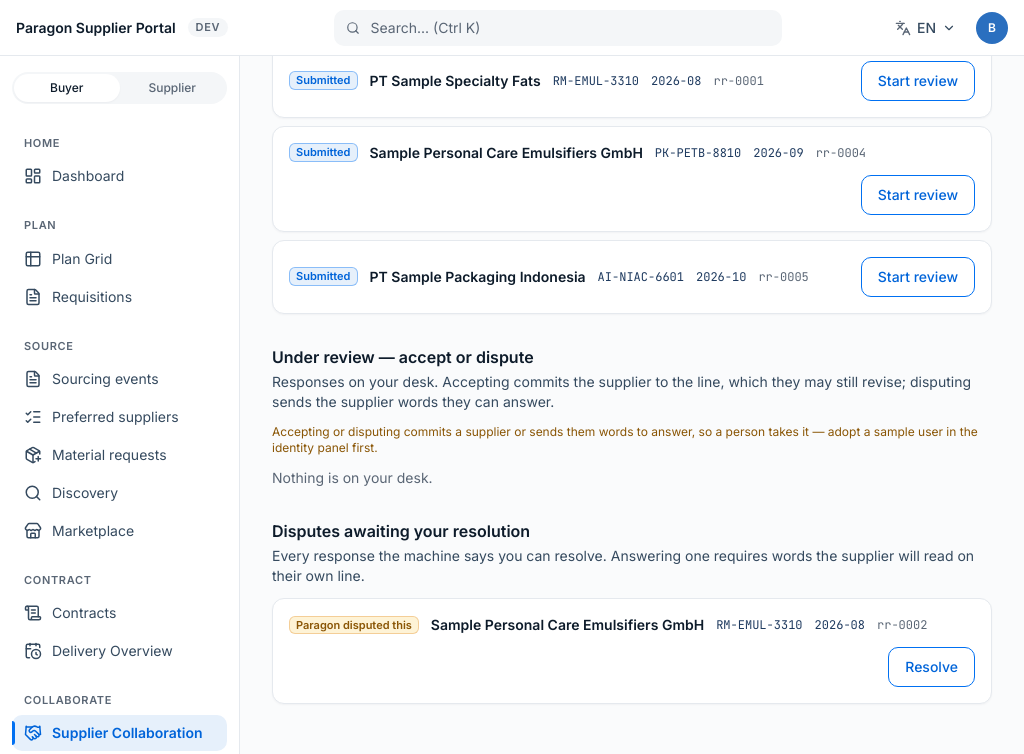
Test: R1b — the capture: a required field with no dismissible way past it › the panel opens on the DISPUTE ITSELF — a planner answers words they can read
(page scrolled)
Expected: the element with test id "sdc-disputes" is shown, 272,520 -> 992,704
Expected: the text "rr-0002" is shown, 877,617 -> 927,633
Click the button with test id "sdc-resolve-cta" at x=932, y=667, box 888,647 -> 975,687
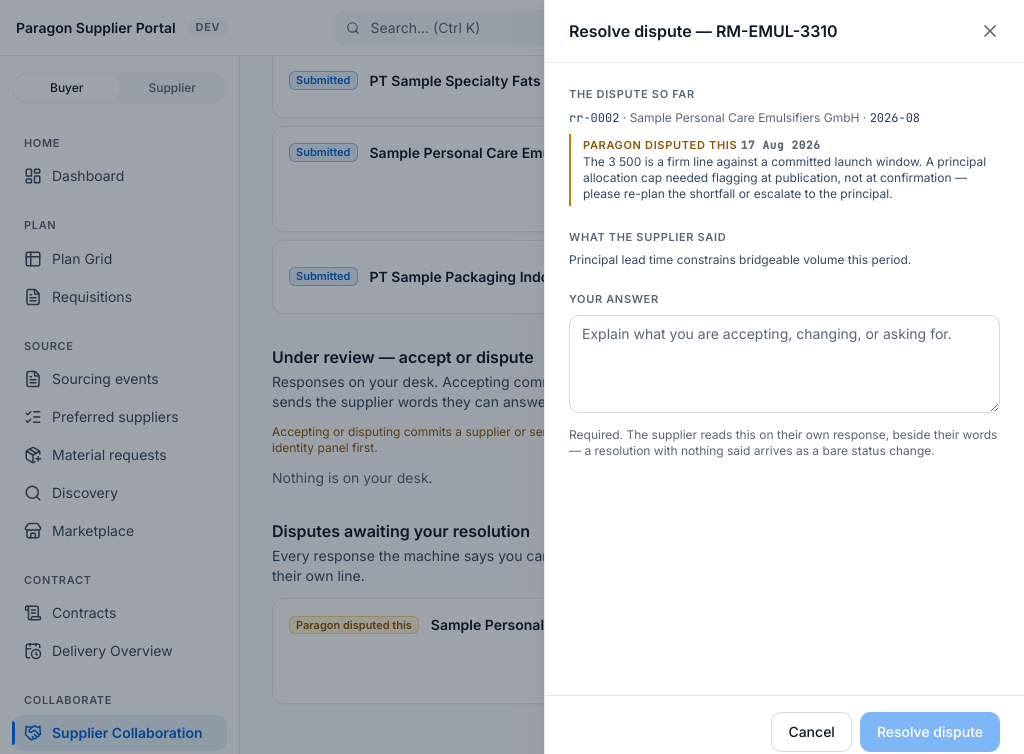
Result: the element with test id "sdc-resolve-exchange" shows "Paragon disputed this" at 583,138 -> 737,152
Result: the element with test id "sdc-resolve-exchange" shows "firm line against a committed launch window" at 583,154 -> 986,201
